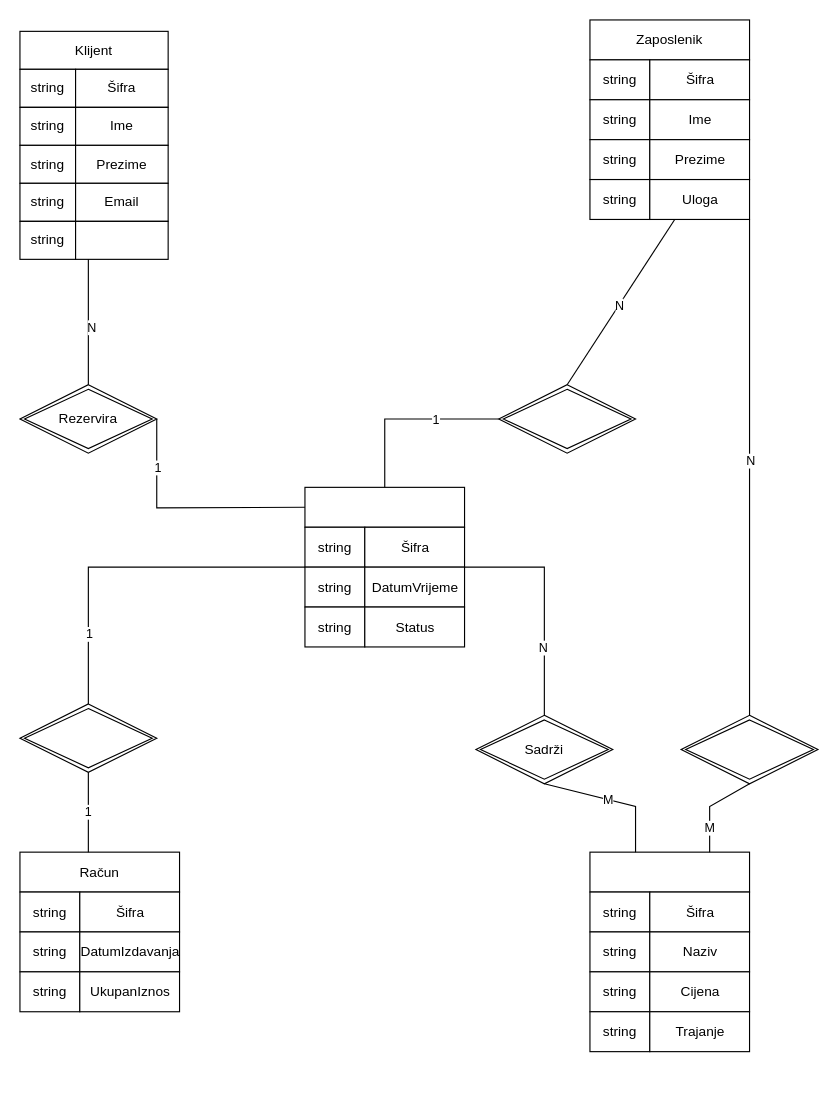
This 838x1112 diagram has some shape labels left out. The centre of each missing label's shape, as x and y in pixels:
"BrojTelefona" goes at point 121,239.
"Generira" goes at point 88,737.
"Obavlja" goes at point 567,418.
"Pruža" goes at point 749,749.
"Termin" goes at point 384,506.
"Usluga" goes at point 669,871.
